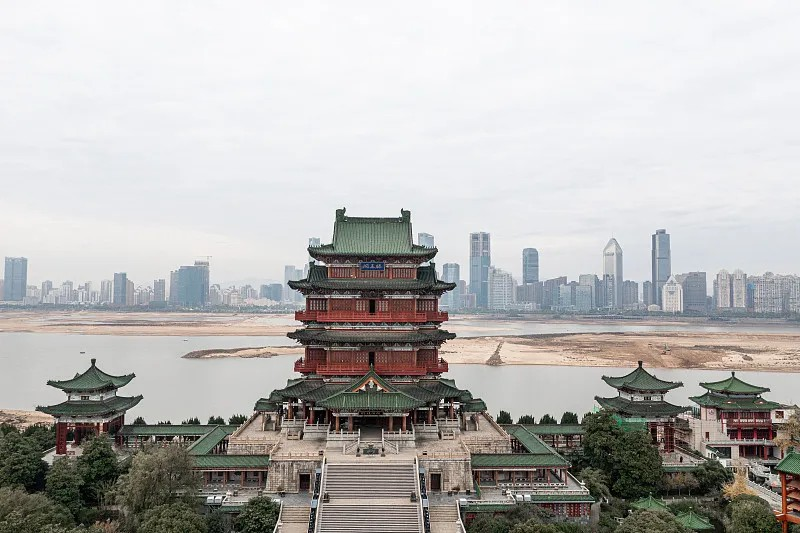Teng: (254, 206, 488, 432)
